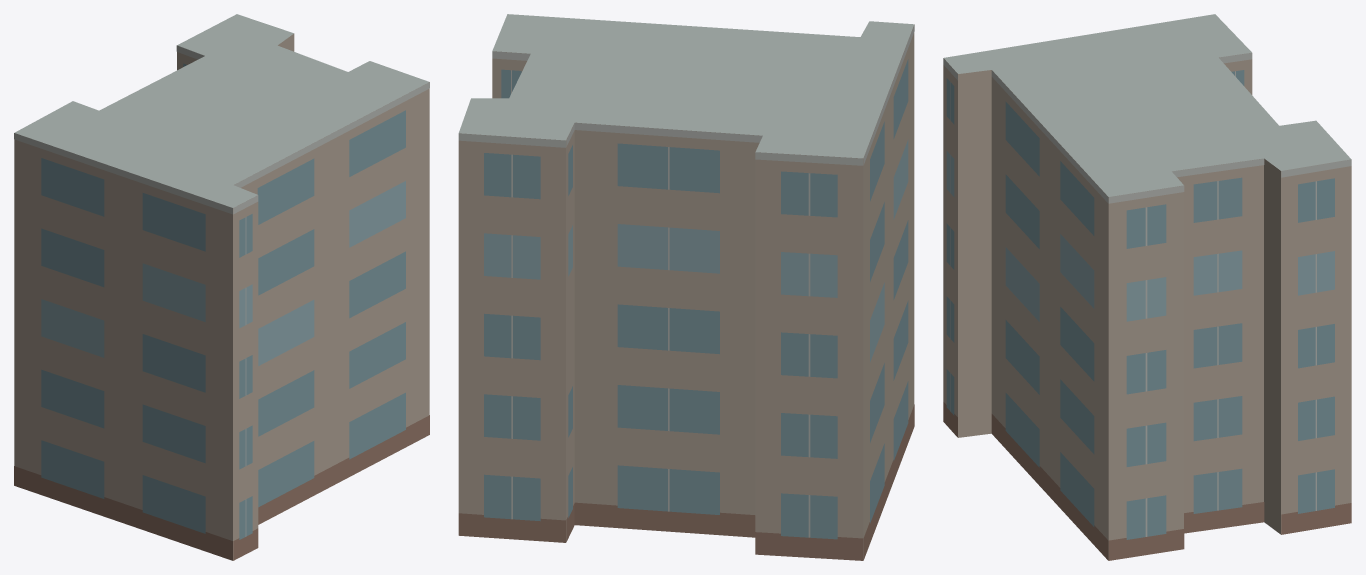
File: survey-upis-32882396.glb
The picture shows the model from 3 angles, left to right: view 1: azimuth 30°, elevation 25°; view 2: azimuth 150°, elevation 25°; view 3: azimuth 270°, elevation 25°; orthographic projection. The views are drawn at different scales.
Visible parts, largest first — view 1: survey-upis-32882396.tmp; view 2: survey-upis-32882396.tmp; view 3: survey-upis-32882396.tmp.
Boxes of the visible parts, left/top/right/bottom form: survey-upis-32882396.tmp: left=14, top=14, right=429, bottom=560; survey-upis-32882396.tmp: left=458, top=14, right=914, bottom=560; survey-upis-32882396.tmp: left=943, top=14, right=1351, bottom=560.
Bounding box in the file's own units: 14.36 × 13.3 × 13.53.
